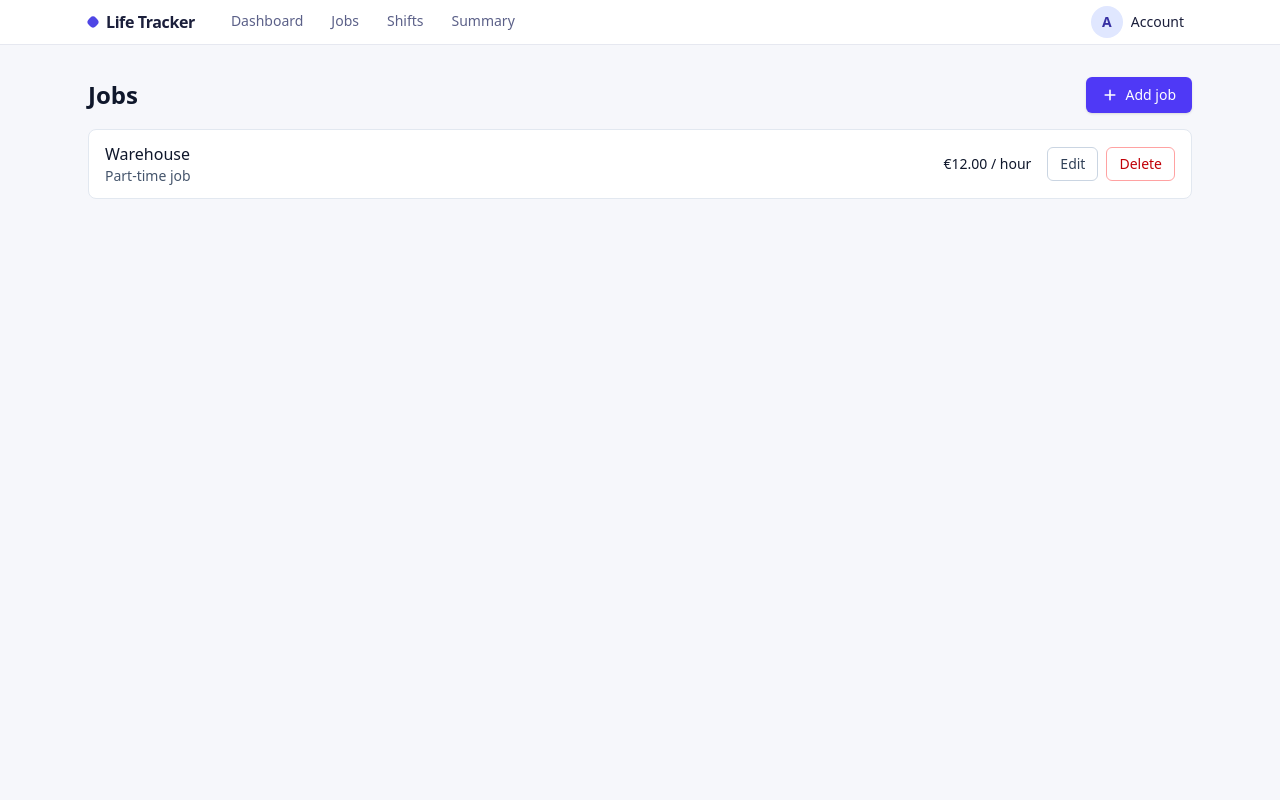
Test case: JobsPage › edits a job in a dialog and updates the list
Expected: the list "Warehouse Part-time job €12.00 / hour Edit Delete" is shown, [88,129,1192,199]
Click the button with aria-label "Edit Warehouse" at (1073, 164), box [1047,147,1098,181]
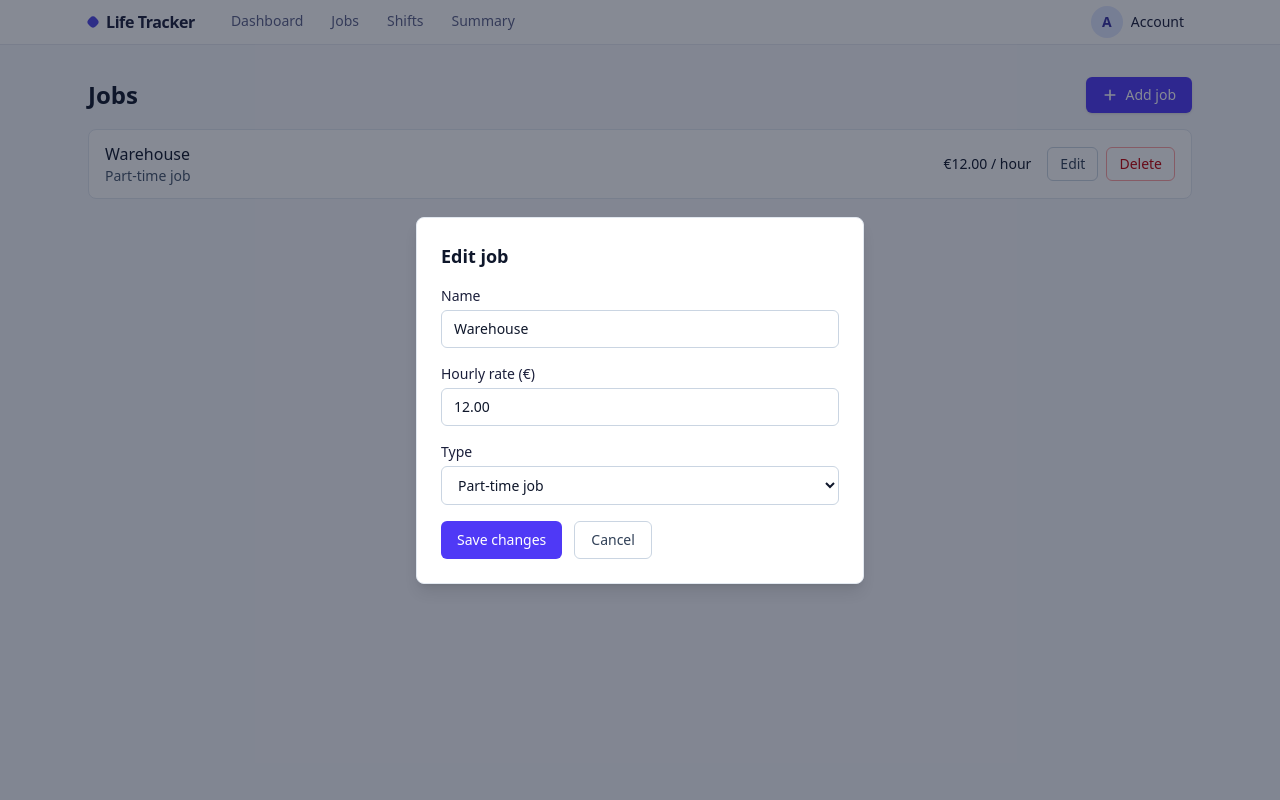
Expected: the field labelled "Name" holds "Warehouse", [441,310,839,348]
Replace the text in the field labelled "Hourly rate (€)" with "13,5" at (640, 406), box [441,388,839,426]
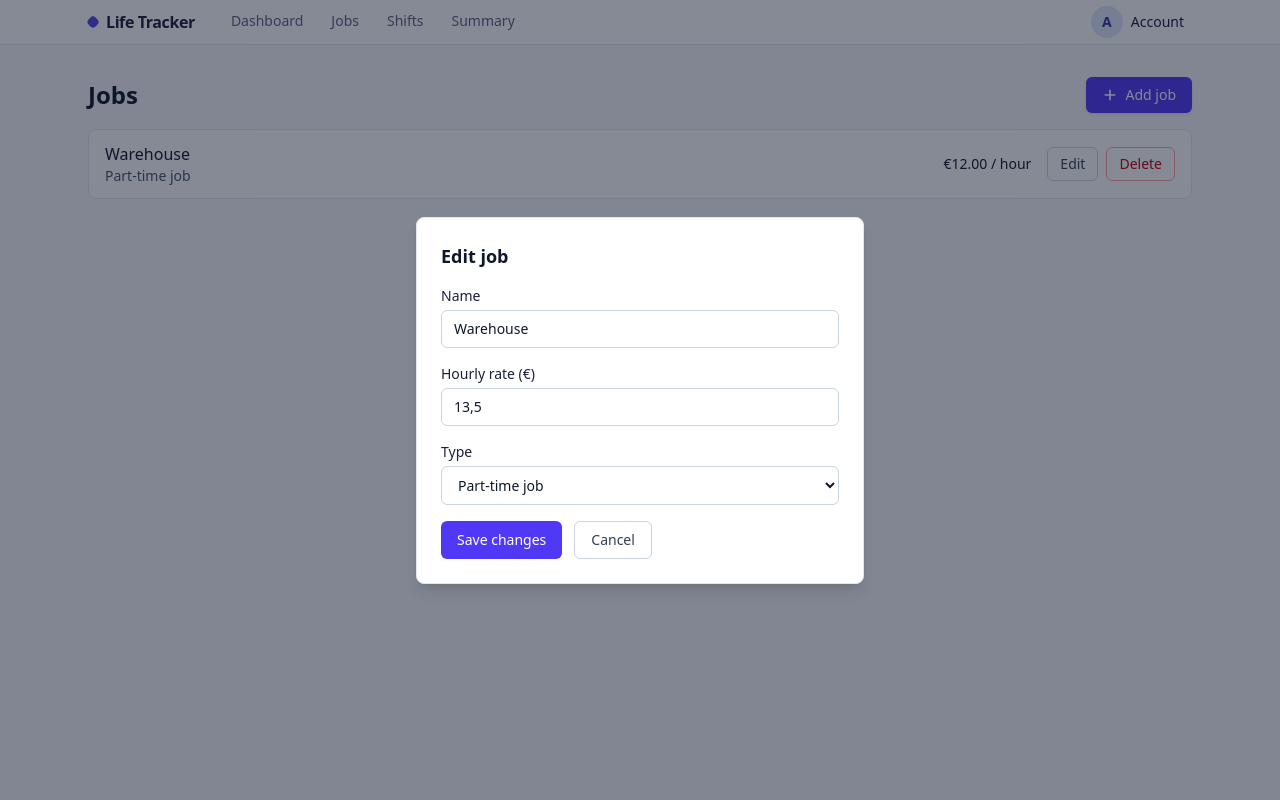
Click the button "Save changes" at (502, 540), box [441,520,562,558]
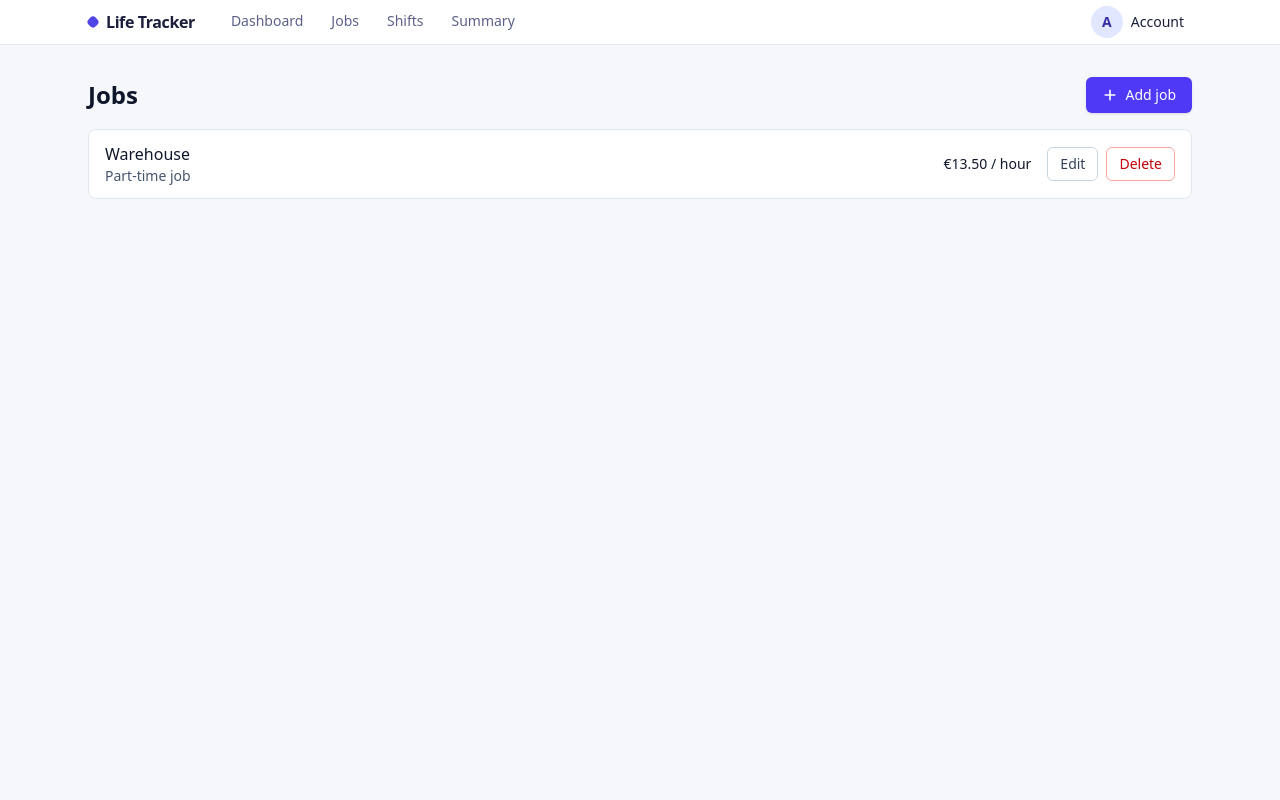
Expected: the text "€13.50 / hour" is shown, [944,154,1031,174]
Expected: the dialog is gone
